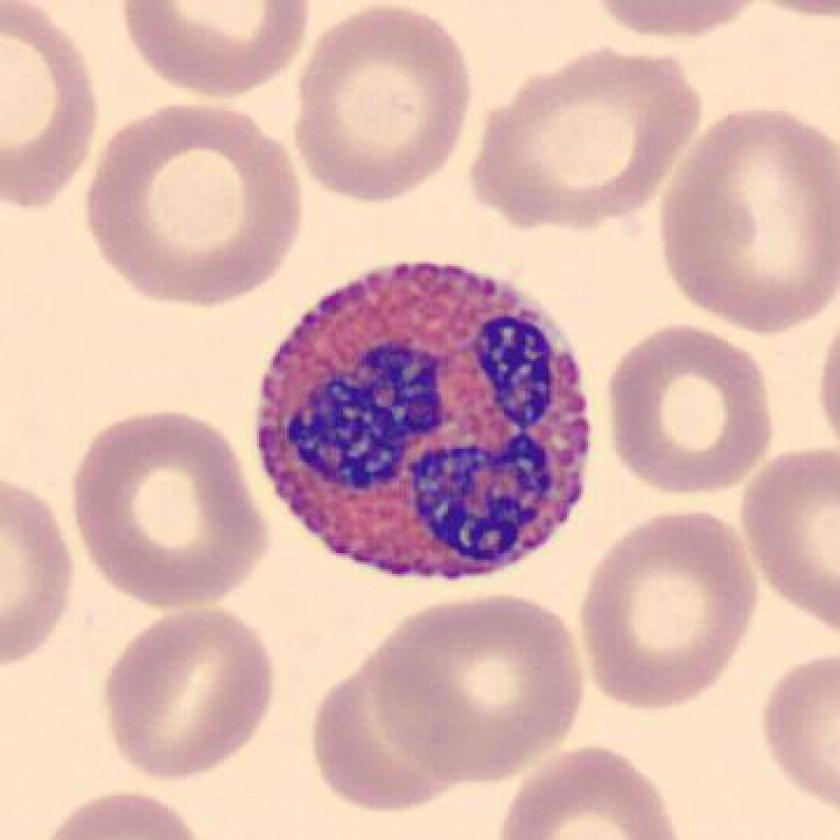eosinophil: (246, 249, 603, 594)
